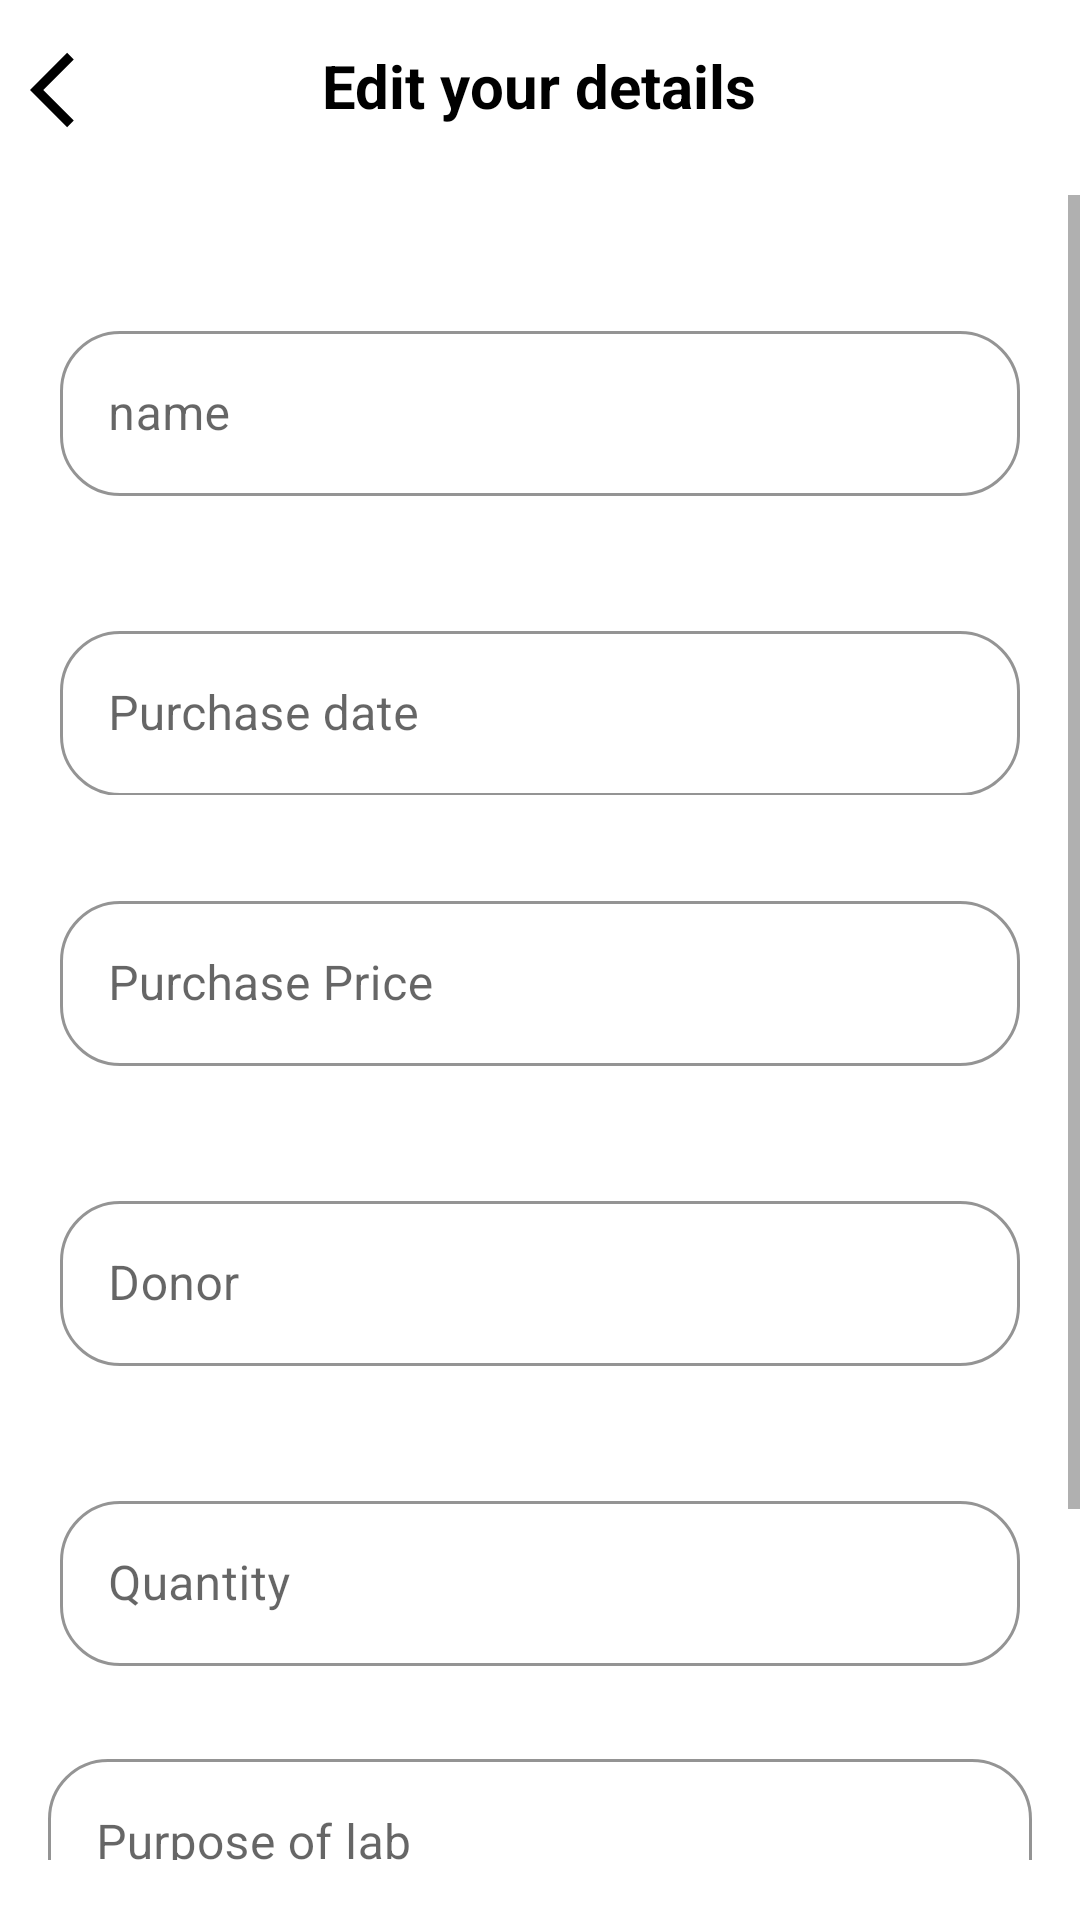

Locate icon controls on the screen. Image size 1080×1920, boxes as (left=x1, top=y1, right=x2, bottom=y2).
arrow back: (left=30, top=53, right=74, bottom=127)
